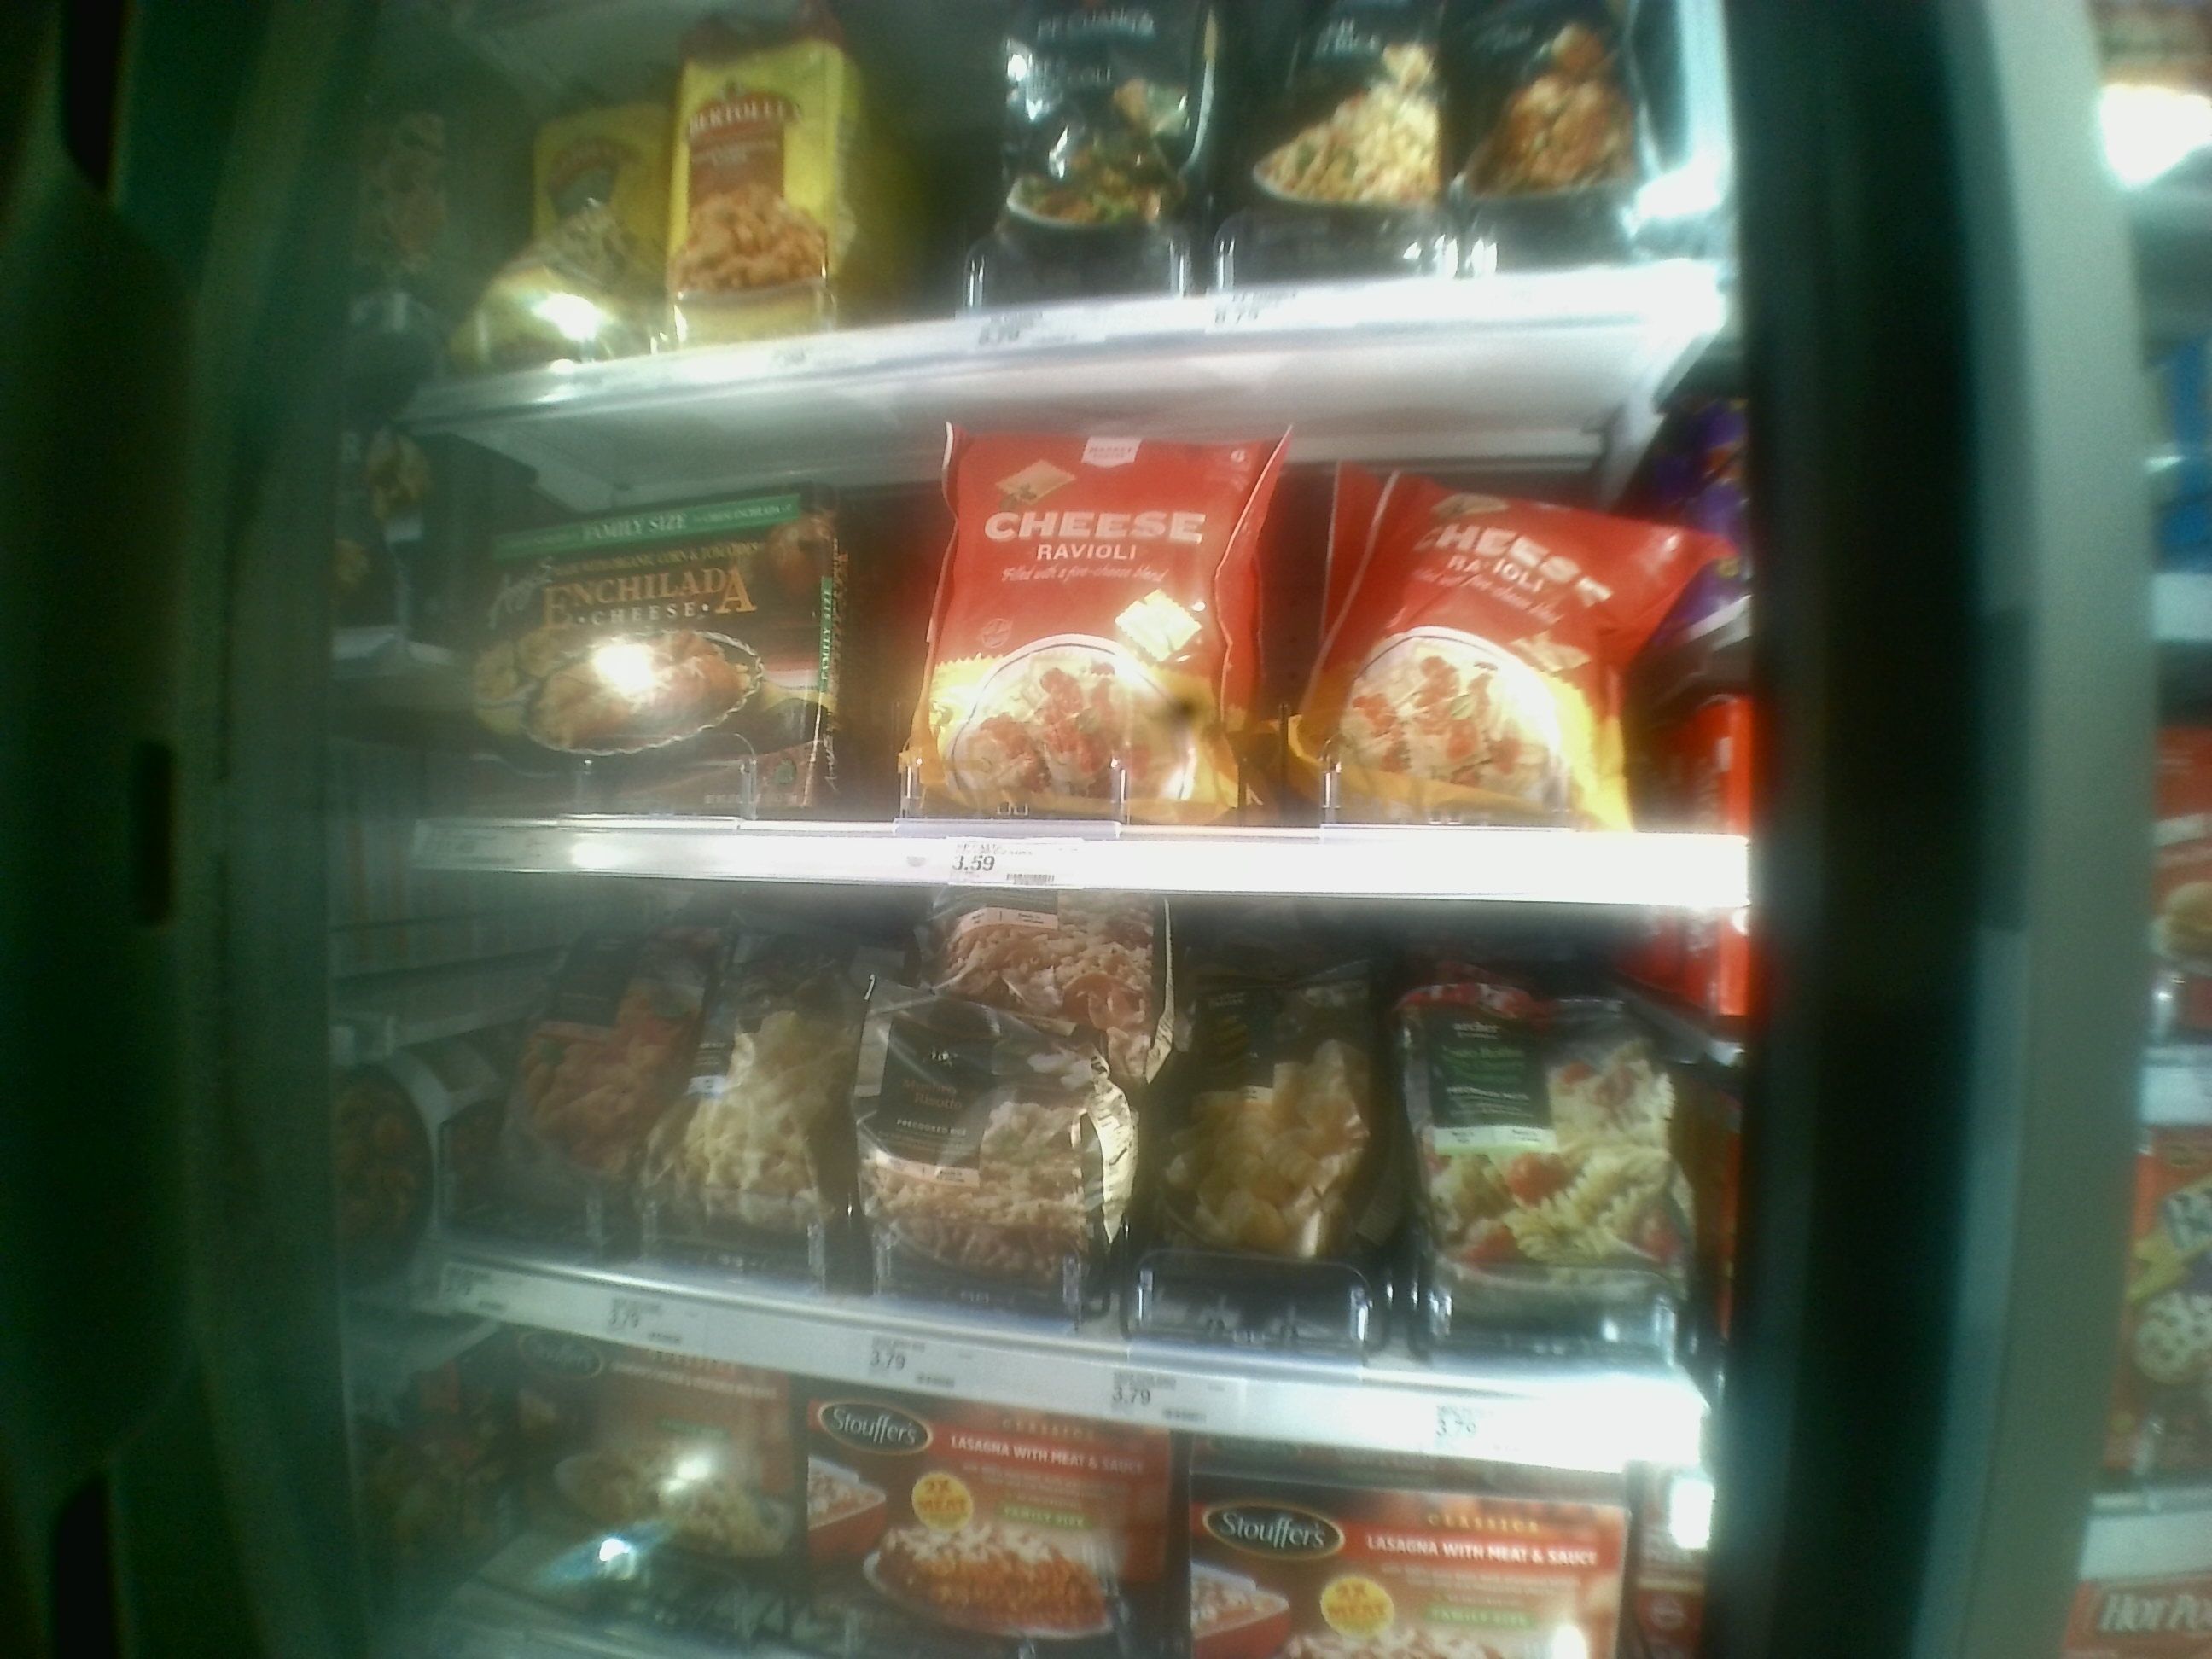shelf: (404, 897, 1639, 1469), (385, 432, 1743, 906)
